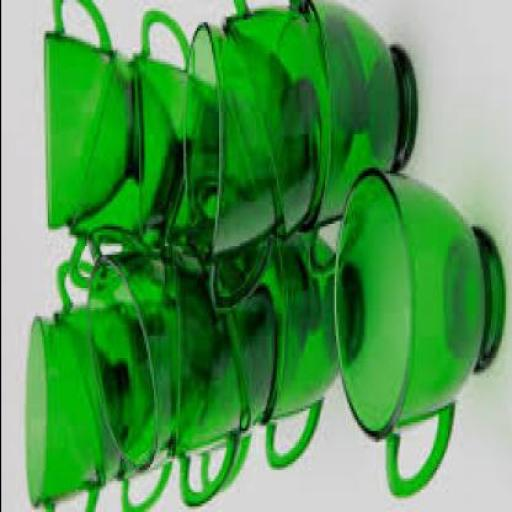glass: (330, 168, 502, 495), (183, 25, 318, 311), (284, 0, 417, 274), (84, 221, 222, 462), (221, 1, 361, 232), (134, 11, 254, 266), (63, 50, 184, 286), (160, 243, 268, 504), (186, 210, 314, 425), (258, 218, 360, 464), (40, 0, 141, 226), (22, 316, 116, 510), (104, 300, 186, 509)
